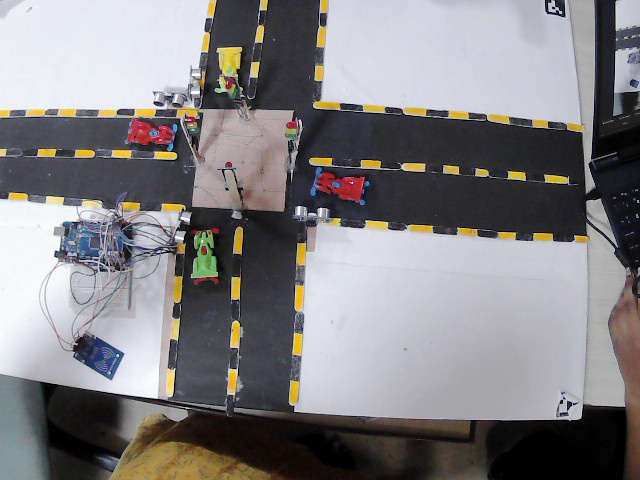aruco_marker: (541, 396, 577, 417), (544, 0, 568, 18)
black_strip: (389, 156, 411, 177), (508, 116, 536, 131), (50, 146, 75, 161), (392, 222, 414, 239), (335, 156, 363, 169), (171, 252, 184, 276), (468, 111, 488, 126), (166, 339, 176, 369), (313, 33, 324, 60), (250, 80, 261, 107), (477, 229, 498, 243), (289, 266, 303, 287), (291, 357, 305, 378), (432, 224, 461, 234), (6, 147, 38, 156), (427, 160, 443, 177), (335, 101, 362, 111), (526, 168, 544, 183), (429, 107, 451, 119), (100, 199, 115, 216), (292, 313, 304, 334), (226, 396, 236, 419), (494, 167, 509, 182), (61, 195, 76, 210), (570, 172, 586, 186), (385, 106, 405, 117), (510, 233, 532, 243), (6, 105, 24, 117), (311, 80, 322, 99), (133, 147, 150, 159), (176, 147, 193, 159), (90, 149, 110, 159), (552, 234, 570, 245), (145, 199, 158, 214), (28, 192, 44, 204), (254, 17, 264, 36), (75, 108, 96, 117), (544, 120, 564, 129), (115, 110, 133, 120), (231, 258, 241, 275), (230, 348, 238, 369), (42, 108, 60, 117), (251, 39, 260, 56), (172, 300, 181, 317), (231, 306, 238, 326), (200, 53, 206, 75), (156, 110, 173, 117), (203, 20, 212, 30)
car: (308, 168, 372, 206), (188, 225, 224, 285), (124, 120, 176, 153), (212, 42, 246, 90)
mixed_lane: (314, 102, 577, 136), (309, 156, 586, 185), (344, 216, 582, 247), (284, 228, 309, 400), (224, 227, 246, 420), (6, 191, 182, 215), (163, 244, 187, 401), (0, 142, 193, 160), (0, 105, 194, 120), (308, 0, 324, 101), (200, 0, 216, 100), (249, 2, 262, 95)
traffic_light: (183, 111, 198, 146), (286, 116, 300, 143), (224, 156, 236, 182), (235, 87, 244, 114)
uno_breadboard: (55, 217, 131, 270), (60, 270, 140, 318), (146, 63, 204, 108), (74, 330, 116, 378), (164, 204, 196, 249)
yellow_strip: (307, 156, 335, 169), (361, 101, 382, 118), (164, 369, 176, 398), (362, 218, 390, 230), (152, 147, 176, 161), (361, 158, 387, 170), (295, 241, 307, 267), (168, 276, 181, 300), (310, 98, 338, 109), (176, 105, 196, 120), (545, 171, 569, 183), (310, 65, 326, 83), (119, 200, 140, 213), (443, 162, 461, 177), (487, 113, 509, 125), (505, 168, 526, 180), (166, 318, 178, 339), (532, 233, 552, 245), (110, 147, 130, 159), (158, 200, 176, 213), (292, 332, 303, 353), (494, 230, 514, 241), (72, 149, 94, 159), (459, 228, 477, 240), (228, 369, 236, 396), (290, 381, 300, 402), (413, 223, 431, 234), (448, 109, 466, 120), (564, 120, 580, 132), (406, 160, 422, 172), (138, 105, 154, 117), (316, 24, 324, 48), (82, 201, 99, 212), (572, 235, 588, 246), (26, 108, 42, 119), (404, 107, 428, 114), (256, 24, 264, 45), (206, 2, 216, 18), (476, 167, 489, 179), (9, 192, 28, 200), (318, 0, 328, 15), (295, 285, 301, 309), (42, 144, 55, 155), (60, 107, 72, 117), (103, 107, 115, 117), (46, 197, 62, 204), (202, 33, 208, 51), (251, 57, 256, 78), (260, 0, 268, 12), (0, 147, 6, 156), (1, 110, 6, 117)
